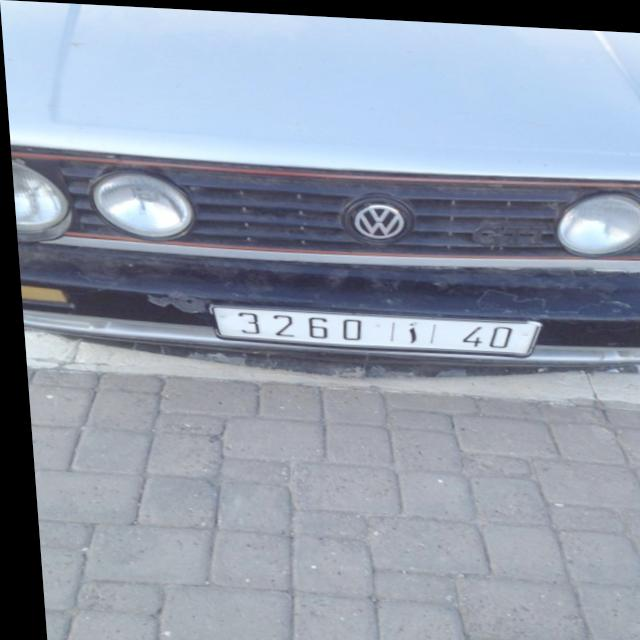License-Plate: (207, 304, 536, 351)
